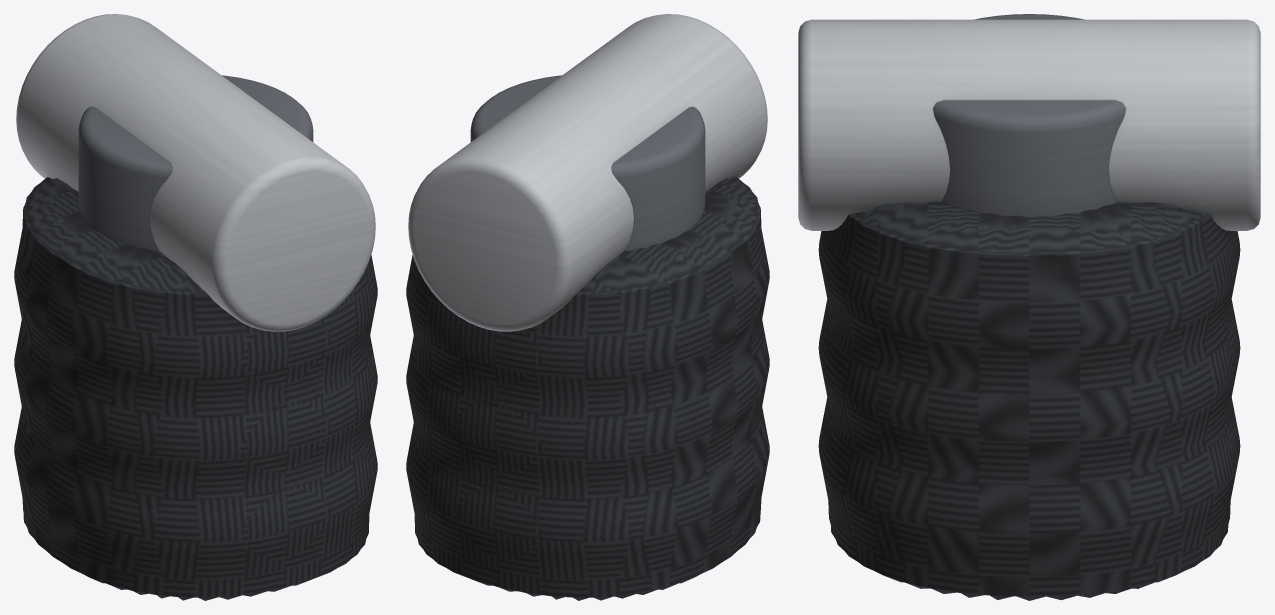
File: neck_v2.glb
3 views of the same model, side by side, from view 1: azimuth 30°, elevation 25°; view 2: azimuth 150°, elevation 25°; view 3: azimuth 270°, elevation 25° (orthographic). The views are drawn at different scales.
Parts seen in each view (by area): view 1: neck; view 2: neck; view 3: neck.
Part boxes in pixels (x1,y1,x2,y2): neck: (14,14,377,600); neck: (406,14,769,600); neck: (798,14,1260,600).
Bounding box in the file's own units: 0.0591 × 0.086 × 0.07.
Materials: 1 (1 with a texture image).
